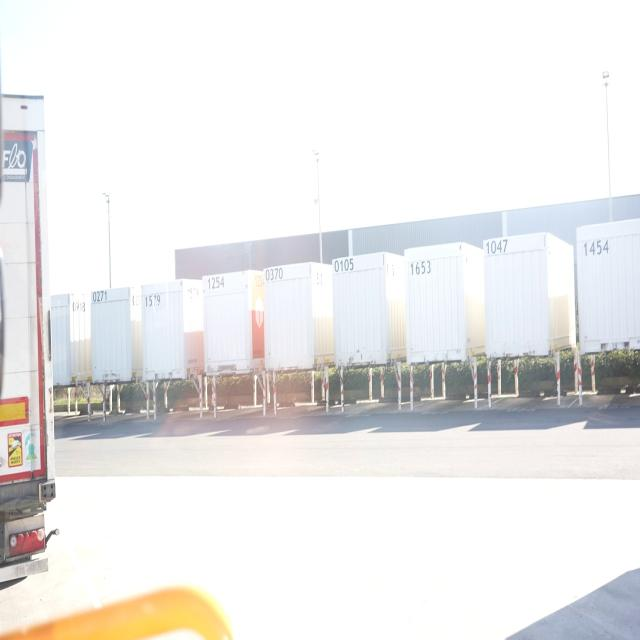Code: (483, 234, 512, 264), (406, 253, 434, 279), (580, 236, 611, 259), (202, 270, 228, 293), (332, 253, 358, 276), (143, 290, 168, 312), (263, 266, 286, 284), (91, 287, 111, 305)
